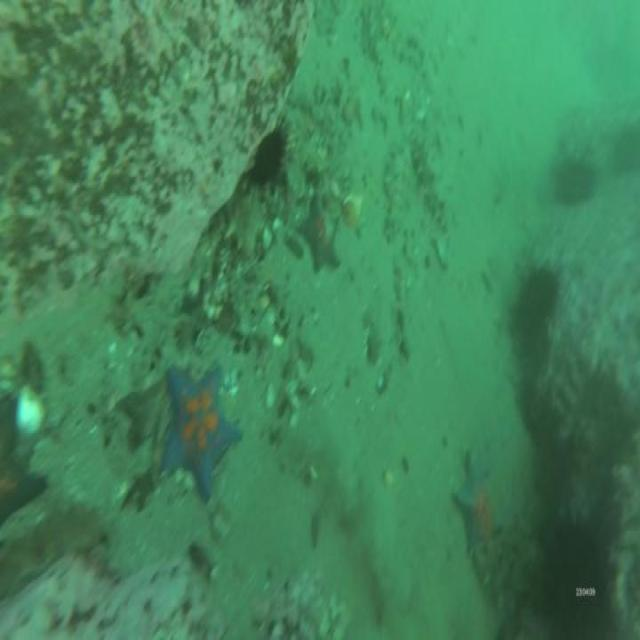echinus: (545, 525, 599, 610), (512, 269, 556, 349), (556, 163, 596, 207), (257, 131, 285, 185)
holothurian: (410, 136, 450, 226), (386, 147, 410, 243), (393, 267, 417, 359)
scallop: (344, 193, 361, 221)
starfish: (163, 368, 241, 501), (456, 450, 502, 550), (300, 201, 342, 273)
